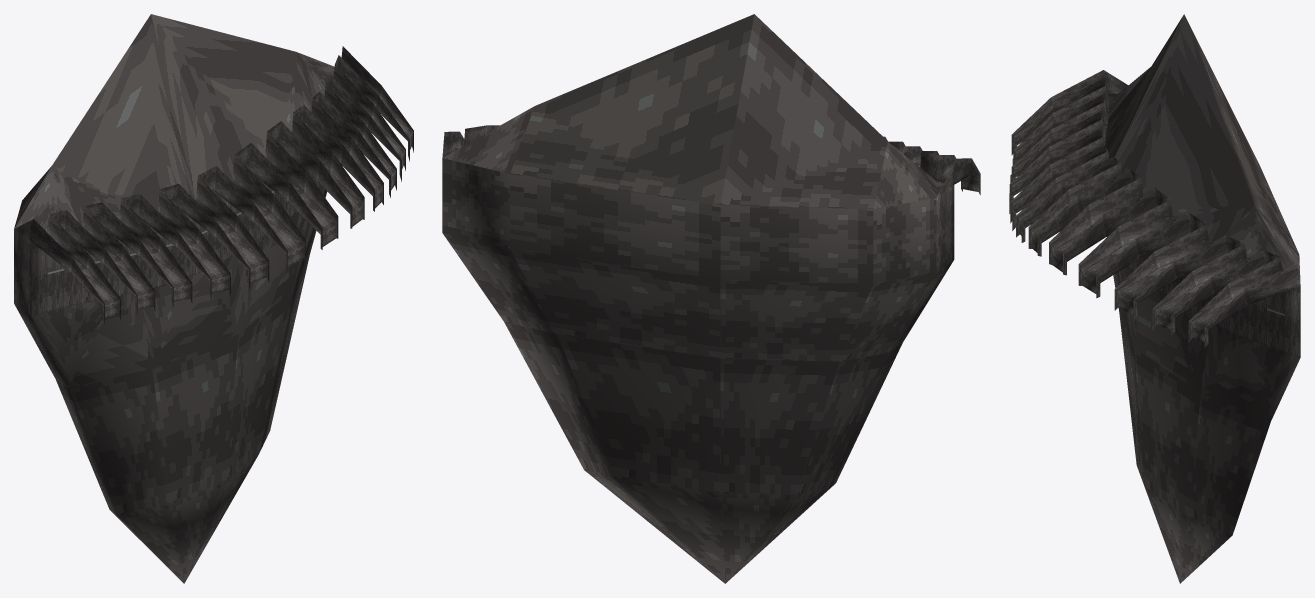
The model's file is Building8.fbx.
3 views of the same model, side by side, from view 1: azimuth 30°, elevation 25°; view 2: azimuth 150°, elevation 25°; view 3: azimuth 270°, elevation 25° (orthographic). The views are drawn at different scales.
Visible parts, largest first — view 1: newassets_TurnstructureL; view 2: newassets_TurnstructureL; view 3: newassets_TurnstructureL.
Boxes of the visible parts, box(x1,y1,x2,y2) form: newassets_TurnstructureL: box(14, 14, 413, 583); newassets_TurnstructureL: box(442, 14, 980, 583); newassets_TurnstructureL: box(1009, 14, 1300, 583).
Size of the model in its own units: 36652 by 46638 by 22159.
Materials: 2 (1 with a texture image).
